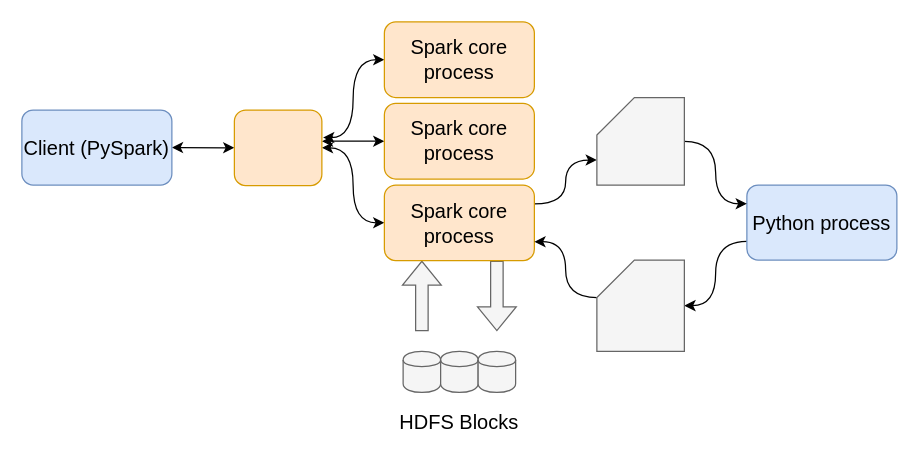
This 919x459 diagram has some shape labels left out. Each missing label, with the box of its shape:
Input (PyArrow): (596, 96, 684, 185)
Output (PyArrow): (596, 259, 684, 351)
Spark Master: (233, 109, 322, 186)
